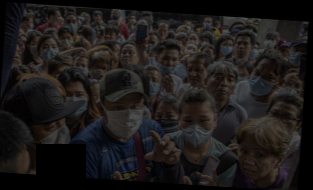mask_weared_incorrect: (156, 54, 178, 76), (100, 30, 115, 44), (277, 47, 289, 60), (51, 12, 61, 27)
with_mask: (103, 98, 144, 138), (33, 115, 71, 158), (178, 113, 213, 146), (247, 66, 275, 96), (63, 89, 88, 120), (153, 110, 180, 135), (277, 77, 303, 95), (39, 42, 58, 63), (287, 45, 305, 67), (88, 63, 108, 81), (146, 74, 159, 100), (63, 17, 78, 33), (72, 61, 89, 75), (173, 58, 186, 76), (57, 34, 72, 49), (144, 38, 157, 55), (28, 39, 40, 57), (219, 41, 233, 56), (145, 51, 159, 66), (262, 35, 276, 49), (234, 68, 247, 83), (247, 45, 259, 60), (184, 44, 197, 56), (198, 37, 211, 48), (185, 35, 199, 45), (93, 32, 103, 45), (91, 90, 100, 104), (177, 28, 187, 37), (110, 11, 119, 21), (244, 20, 253, 29), (202, 19, 210, 29), (228, 32, 236, 41), (27, 20, 34, 30), (184, 22, 191, 31), (129, 16, 136, 24), (148, 14, 153, 25), (216, 22, 221, 30)
without_mask: (235, 142, 271, 180), (206, 71, 234, 101), (265, 107, 297, 132), (185, 64, 206, 87), (119, 47, 139, 68), (233, 39, 251, 57), (11, 47, 20, 66), (155, 26, 167, 40), (111, 46, 120, 63), (92, 13, 99, 22)
